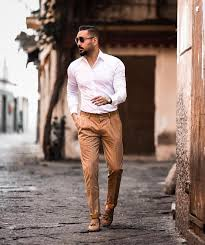F_shirt: (65, 51, 129, 115)
